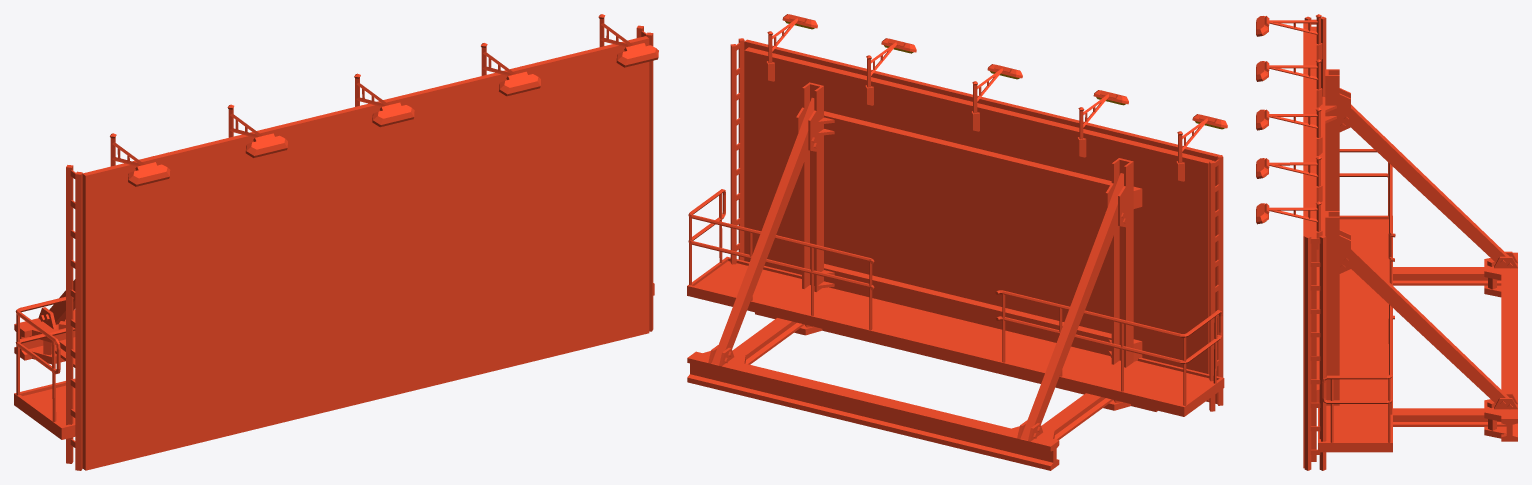
Rendered from SM_Billboard_F_City.fbx.
3 views of the same model, side by side, from view 1: azimuth 30°, elevation 25°; view 2: azimuth 150°, elevation 25°; view 3: azimuth 270°, elevation 25° (orthographic). The views are drawn at different scales.
Visible parts, largest first — view 1: SM_Billboard_F_City; view 2: SM_Billboard_F_City; view 3: SM_Billboard_F_City.
Boxes of the visible parts, left/top/right/bottom form: SM_Billboard_F_City: left=14, top=14, right=658, bottom=470; SM_Billboard_F_City: left=687, top=14, right=1227, bottom=470; SM_Billboard_F_City: left=1256, top=14, right=1517, bottom=470.
Size of the model in its own units: 5.29 by 2.72 by 2.56.
